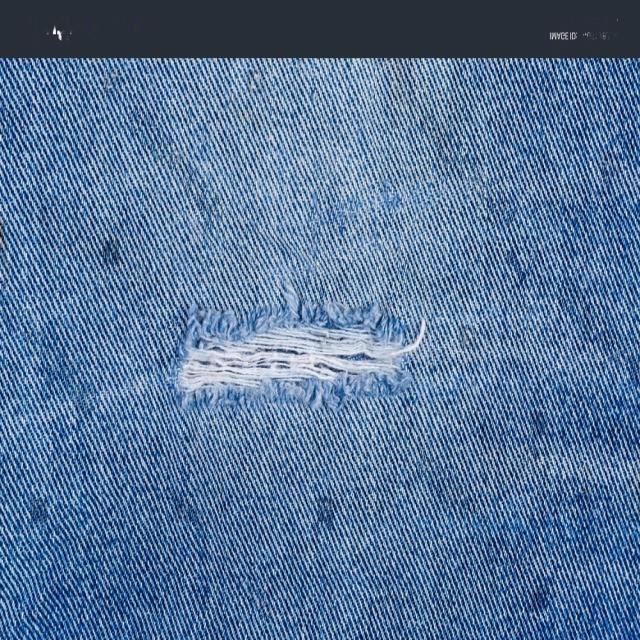Hole: (171, 283, 426, 410)
